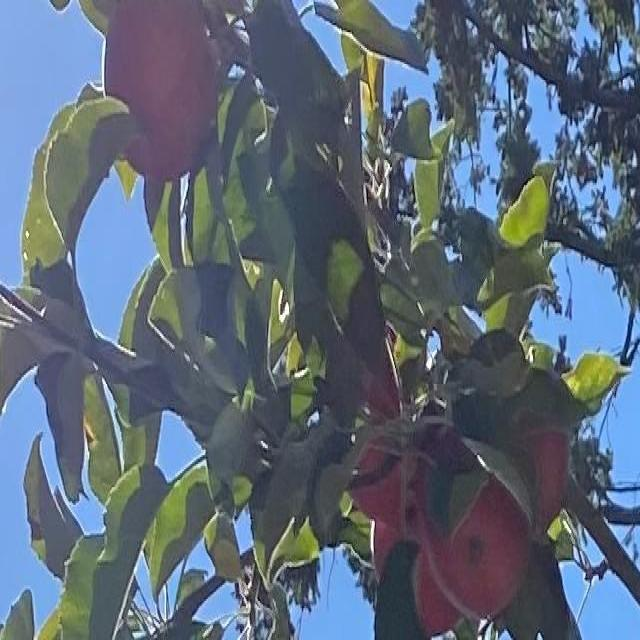Rotten Apple: (103, 0, 215, 183), (420, 430, 528, 612), (347, 380, 412, 521), (373, 487, 424, 578), (415, 547, 463, 633), (531, 416, 569, 521)
